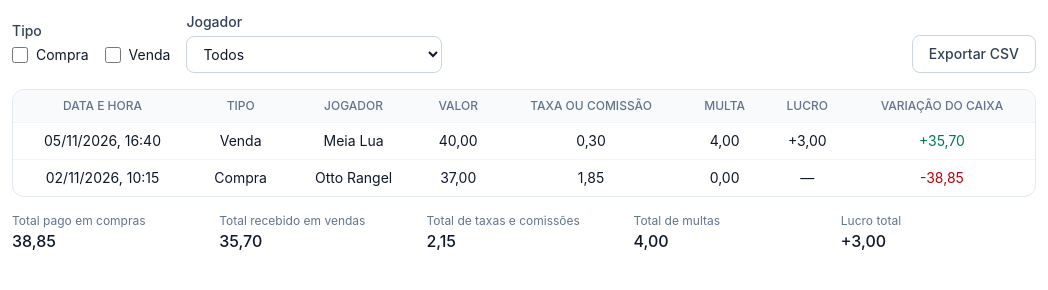
Test: TransactionHistorySection › shows the API message when a filter is refused
Check: the cell "Otto Rangel" is shown, box x1=289 y1=160 x2=418 y2=196
Select "Otto Rangel" in the dropdown labelled "Jogador". click: x=314, y=54
box: x1=186 y1=36 x2=442 y2=73
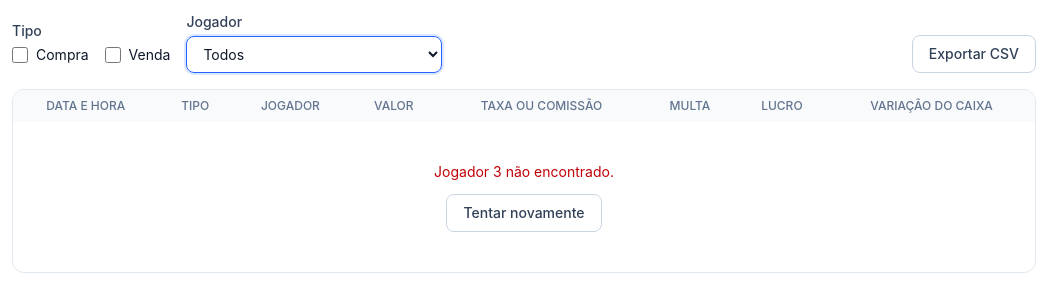
Check: the message shows "Jogador 3 não encontrado.", box x1=434 y1=163 x2=614 y2=180
